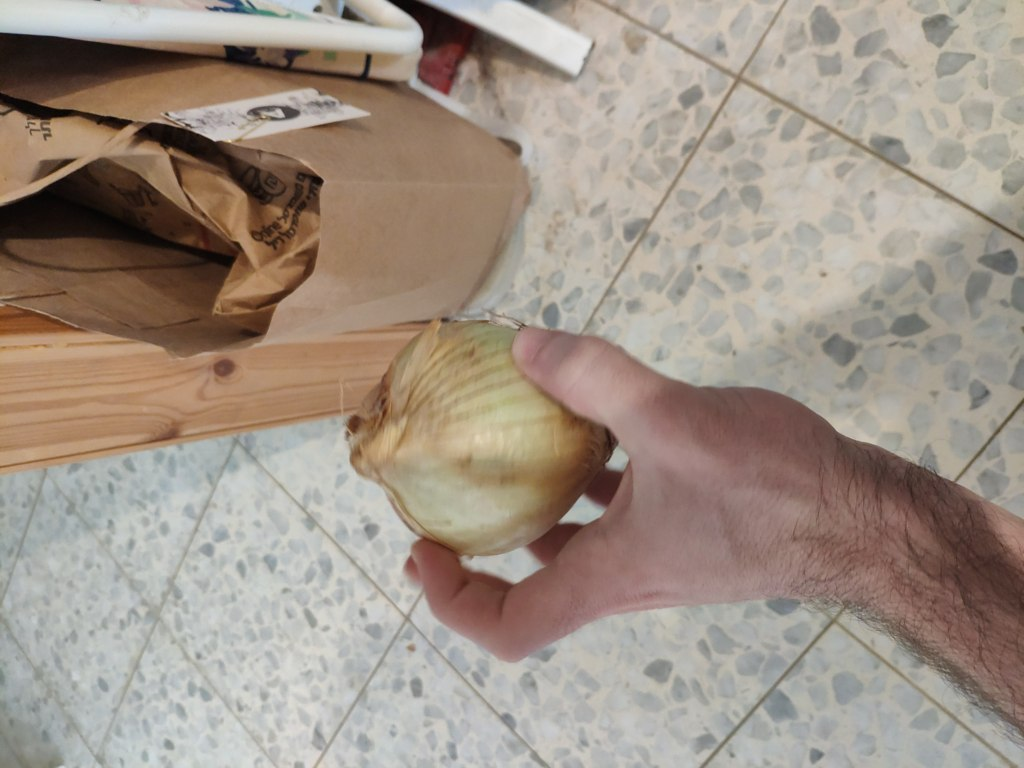Onion: (350, 318, 646, 553)
